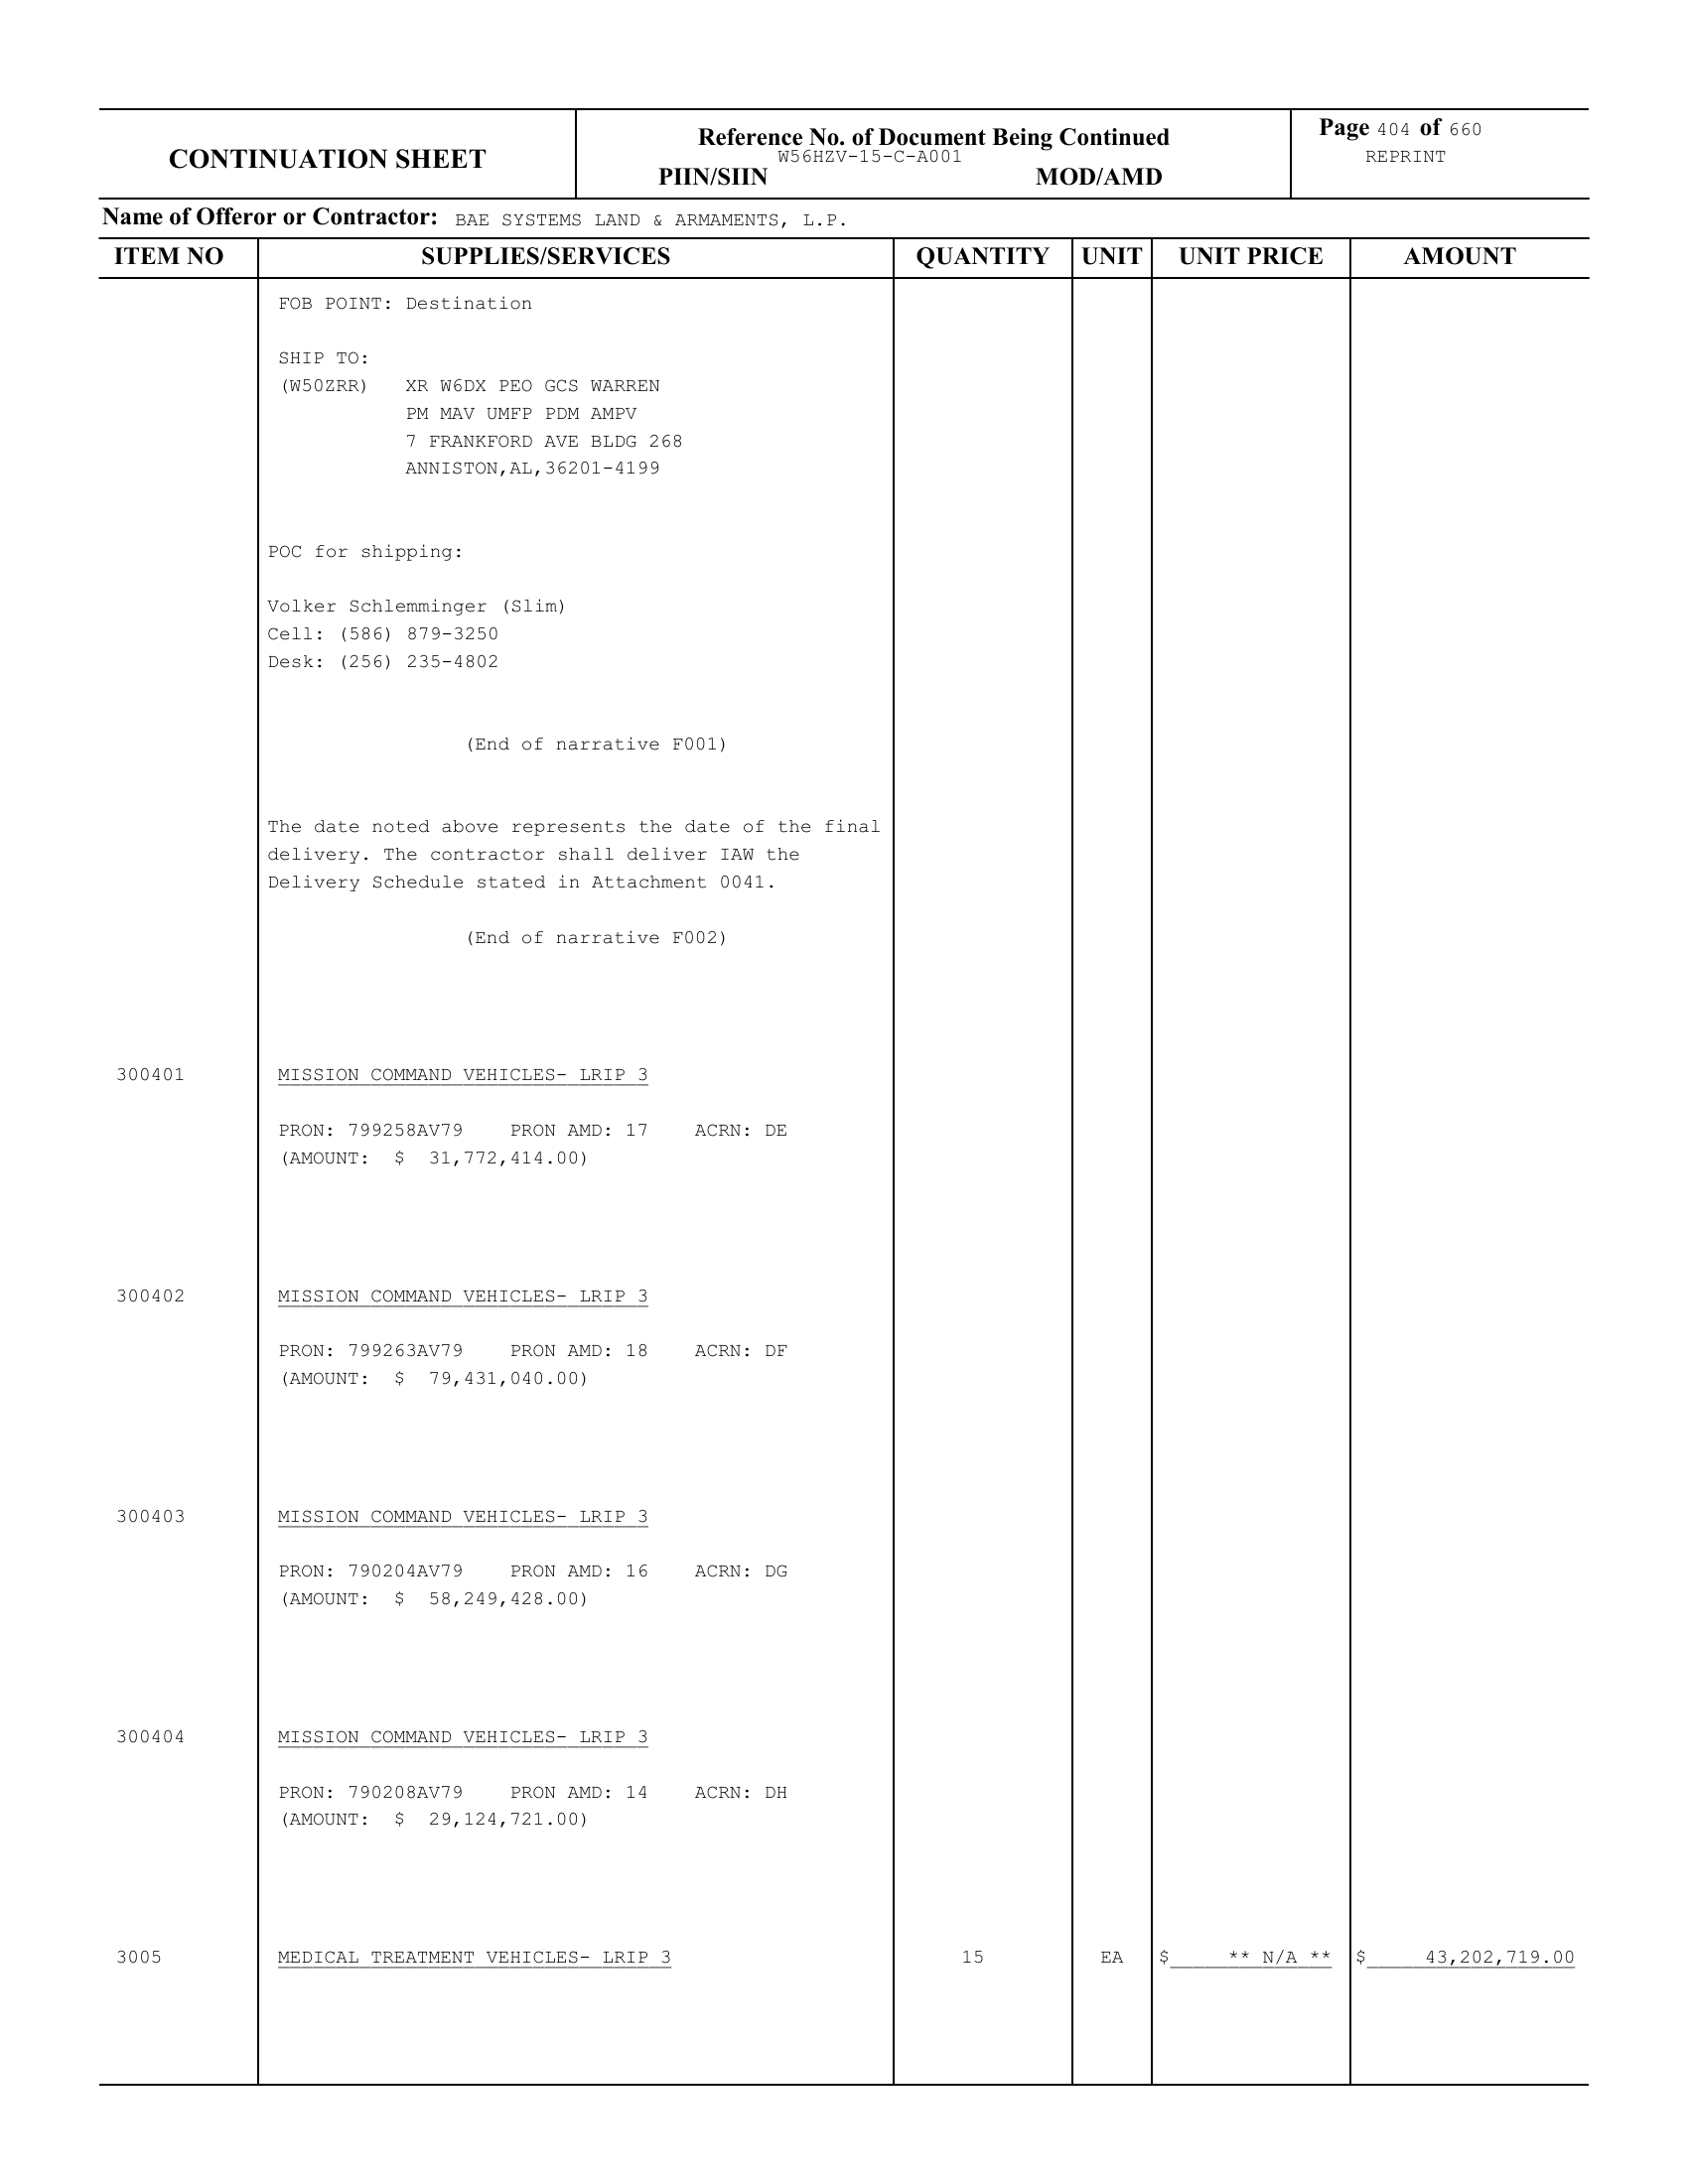table: (96, 238, 1587, 2086)
